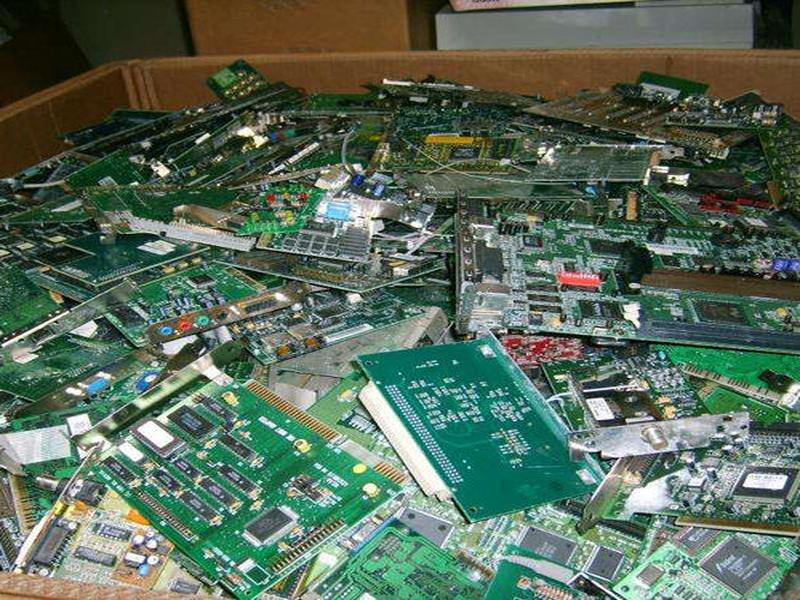circuit_board: (92, 377, 410, 600), (444, 186, 800, 356), (340, 328, 608, 526), (588, 422, 800, 529), (596, 522, 800, 600), (538, 349, 717, 432), (97, 258, 271, 341), (1, 326, 126, 409), (231, 186, 329, 239)
